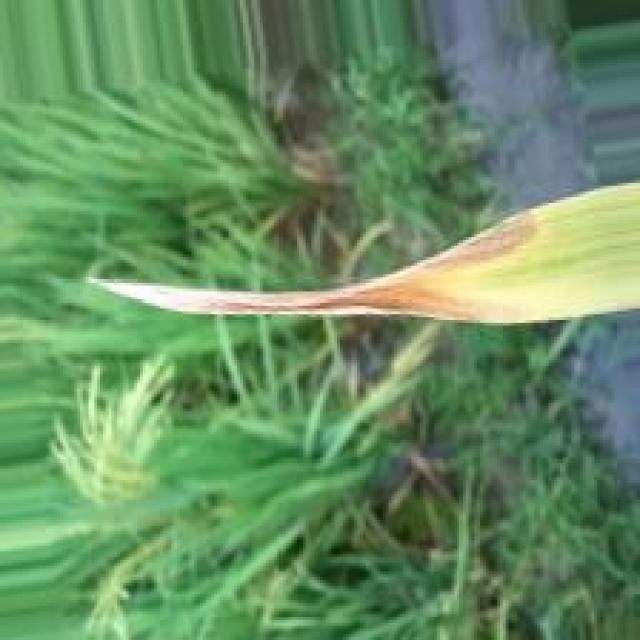Leaf_Scald: (124, 210, 537, 322)
